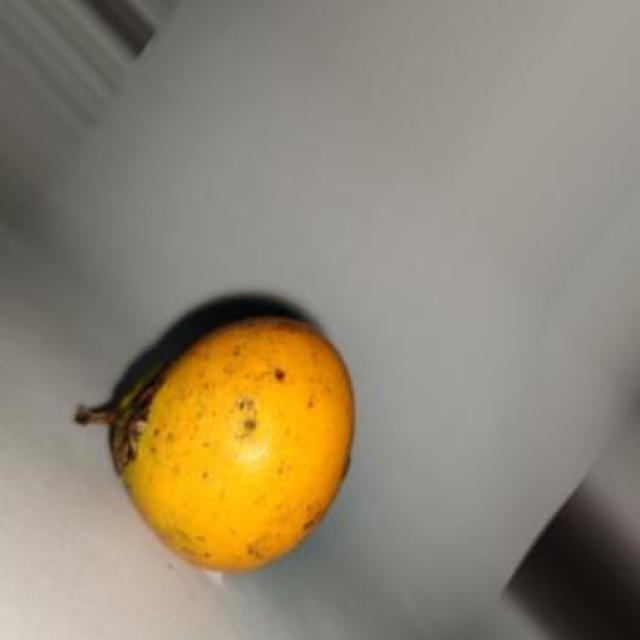good: (113, 304, 355, 574)
